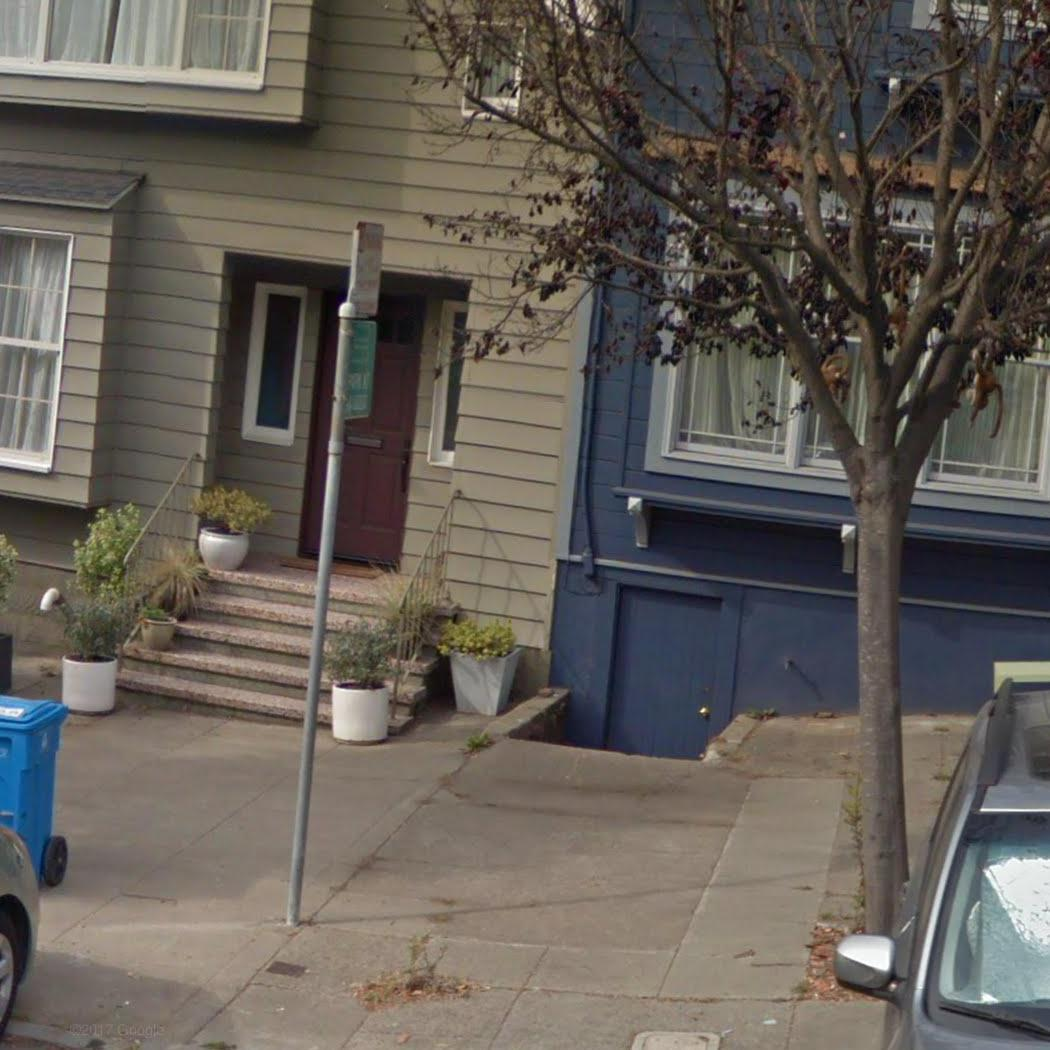2 Hour Parking: (342, 316, 381, 425)
No Parking: (347, 218, 389, 317)
